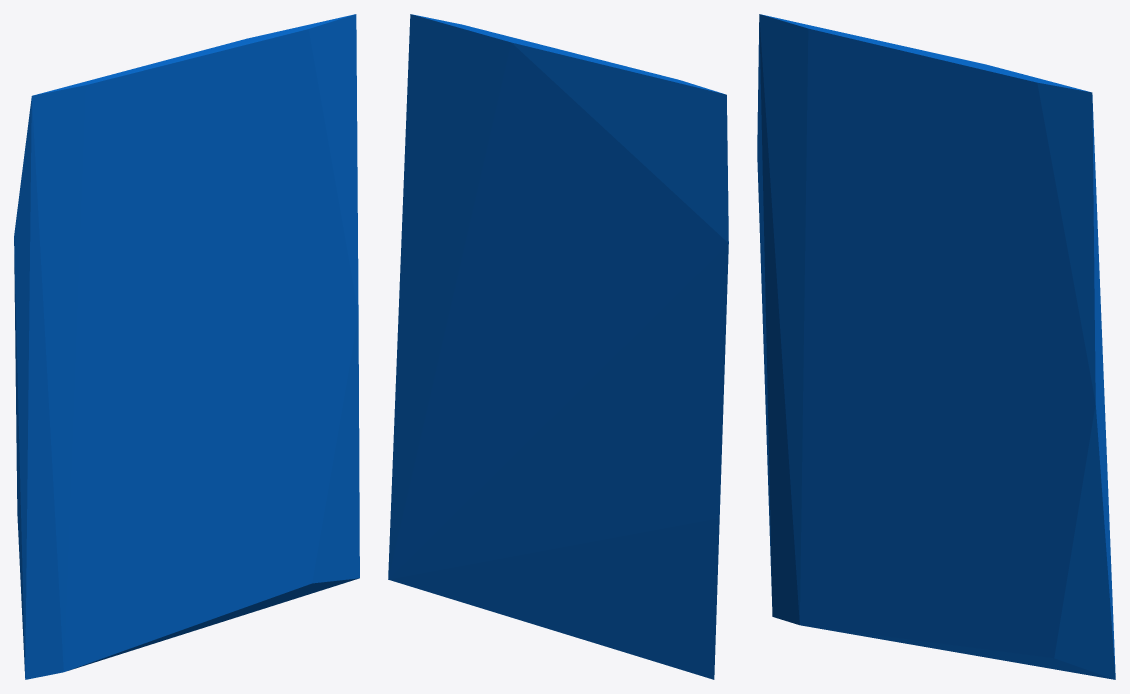
Rendered from recycle_bin_convex_piece_004.obj.
3 renders of one model, left to right at view 1: azimuth 30°, elevation 25°; view 2: azimuth 150°, elevation 25°; view 3: azimuth 330°, elevation 25°, orthographic. The views are drawn at different scales.
Bounding box in the file's own units: 0.2833 × 0.4641 × 0.0202.
